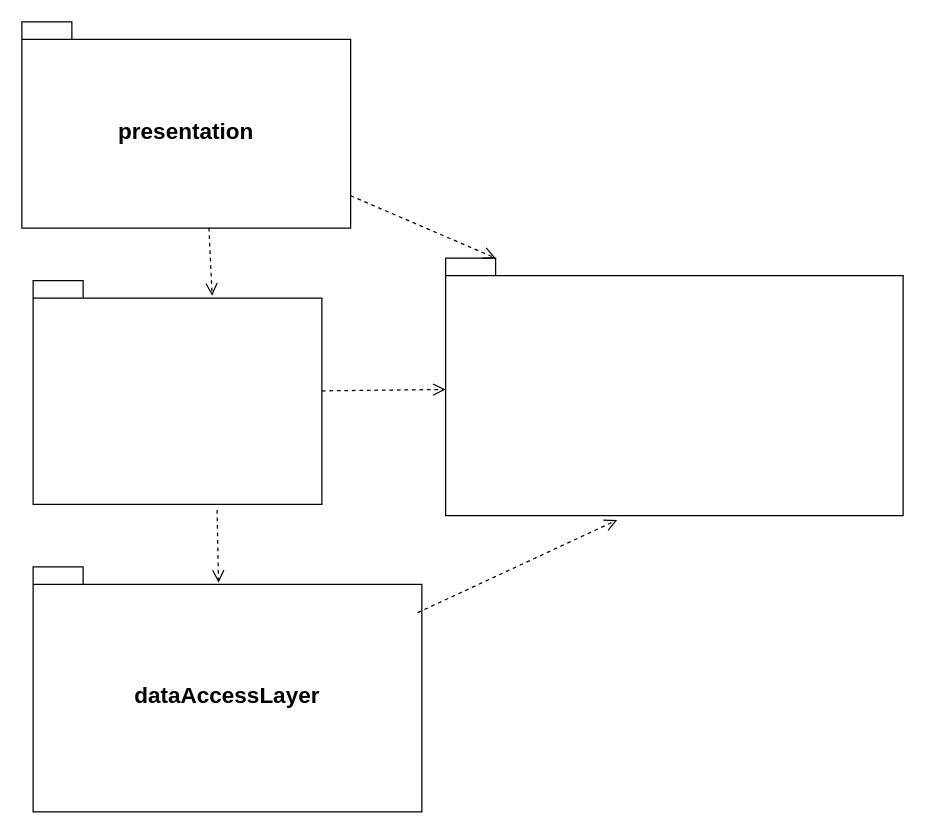
This 925x834 diagram has some shape labels left out. The shapes that lost their labels are listed below. From the top down, each one's box as (x1, y1, x2, y2) in pixels, then its label:
(32, 279, 322, 504): businessLayer
(444, 257, 903, 516): model
